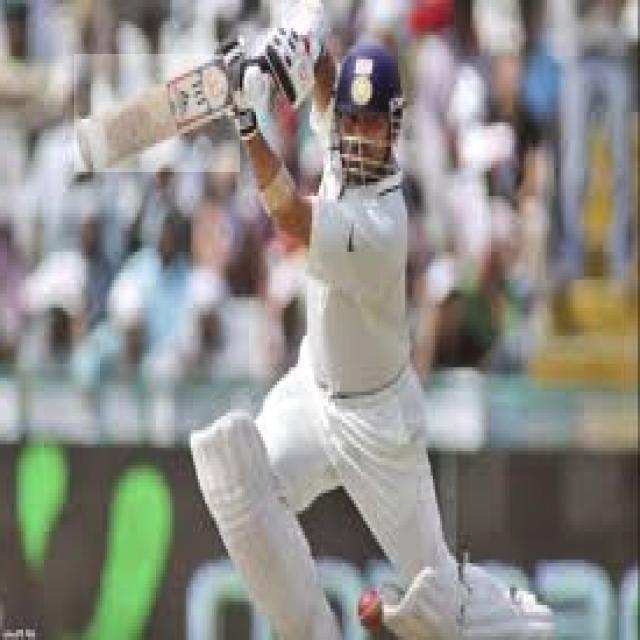bat: (75, 53, 242, 173)
toe: (80, 131, 94, 172)
